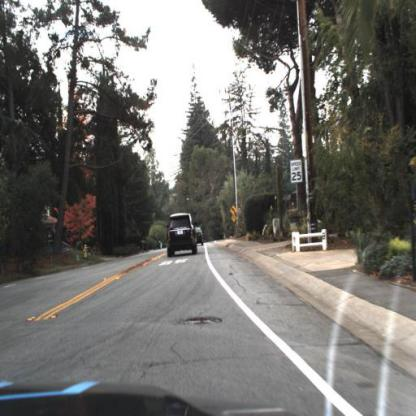car: (169, 216, 199, 262), (193, 222, 206, 250), (194, 227, 206, 250)
